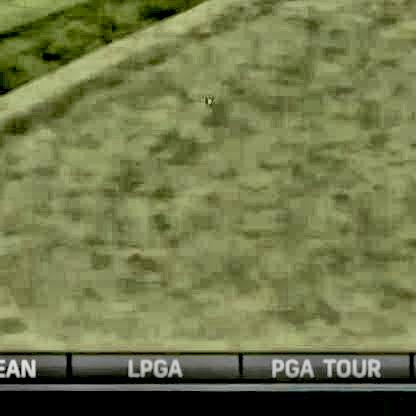golfball: (204, 96, 209, 101)
